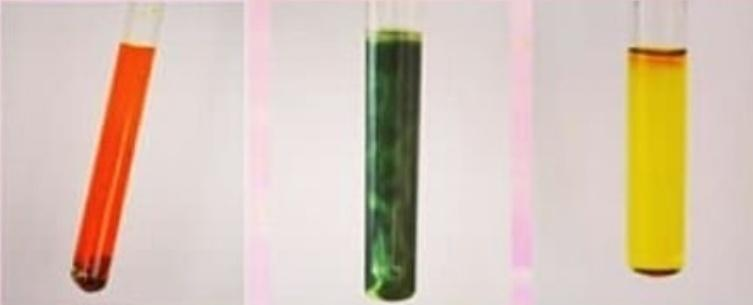Test tube: (73, 16, 161, 291), (348, 30, 427, 294), (620, 15, 692, 286)
